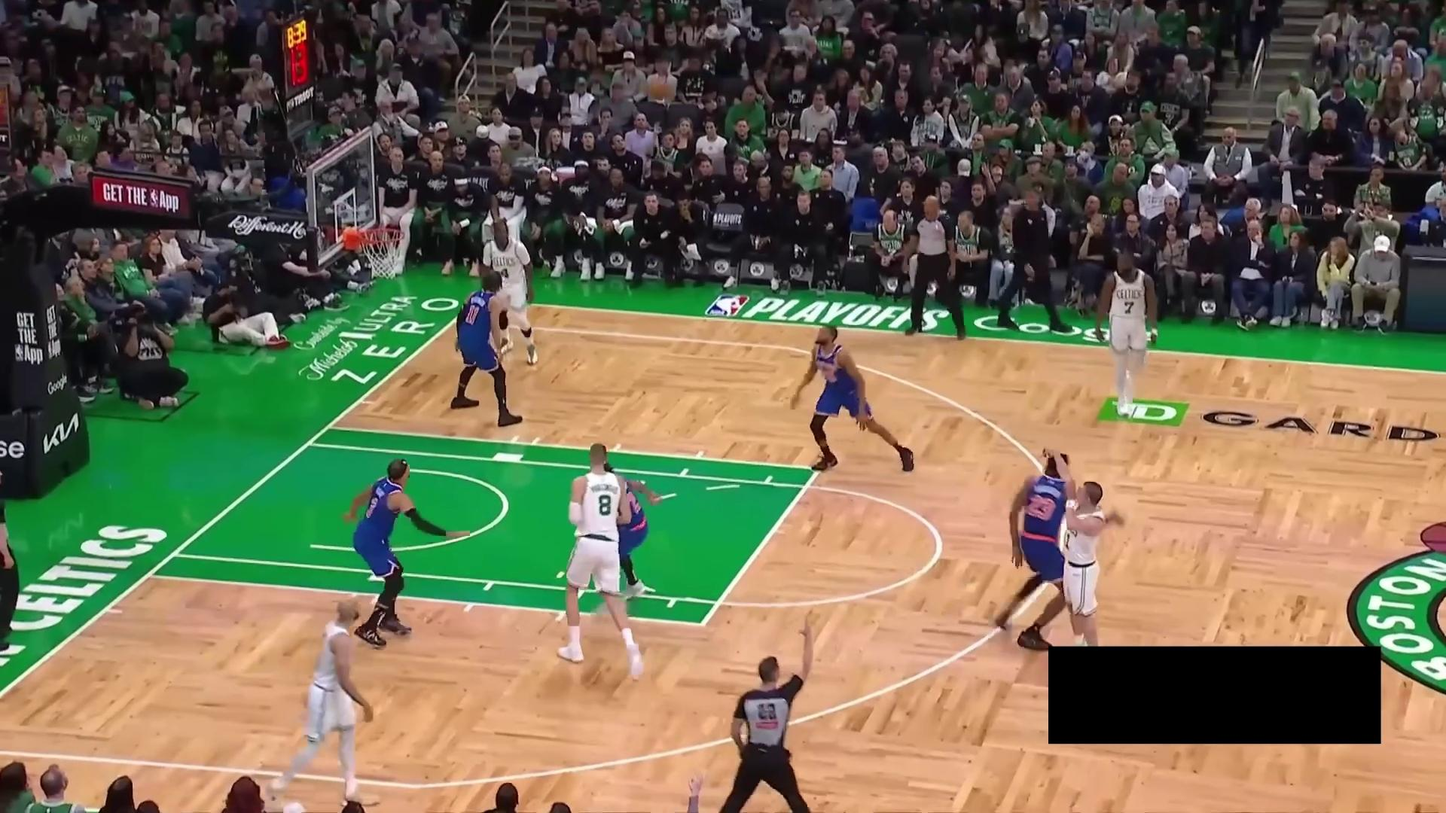ball: (646, 74, 669, 100)
number: (1026, 494, 1058, 519), (625, 489, 643, 513), (597, 492, 614, 517), (464, 302, 479, 326), (365, 496, 379, 519), (1123, 299, 1135, 317), (500, 266, 511, 279)
player: (993, 453, 1124, 652), (340, 458, 471, 647), (264, 597, 380, 807), (556, 443, 645, 681), (789, 323, 914, 472), (1041, 446, 1107, 646), (451, 270, 524, 428), (1094, 250, 1157, 415), (481, 217, 540, 366), (601, 461, 662, 598)
referee: (718, 604, 827, 813), (900, 194, 967, 342)
rim: (357, 226, 405, 244)
